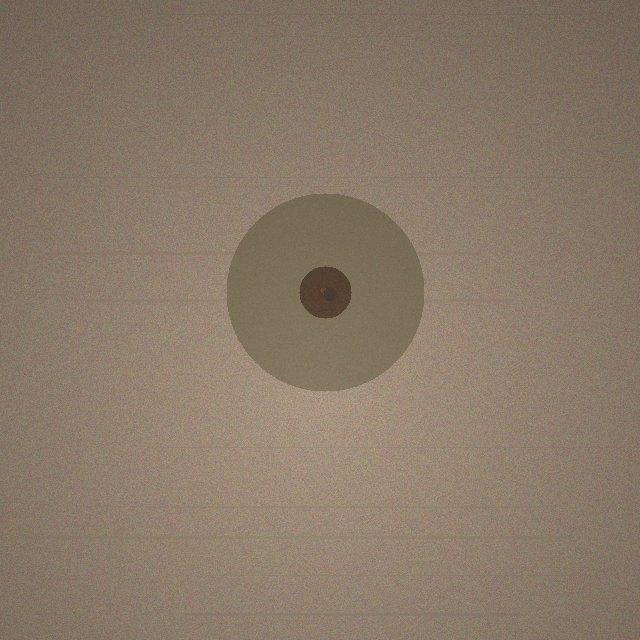cold_weld: (226, 193, 424, 391)
